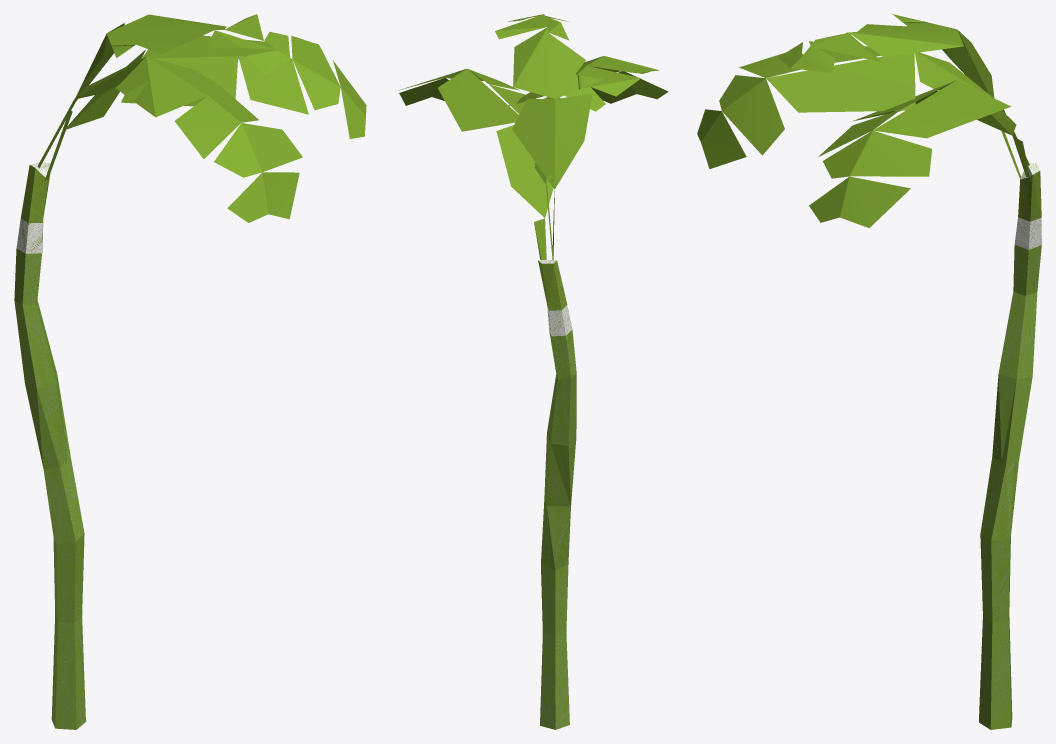
File: Tree_Bamboo_05.fbx
3 renders of one model, left to right at view 1: azimuth 30°, elevation 25°; view 2: azimuth 150°, elevation 25°; view 3: azimuth 270°, elevation 25°, orthographic. The views are drawn at different scales.
Parts seen in each view (by area): view 1: Model; view 2: Model; view 3: Model.
Boxes of the visible parts, x1=… form: Model: x1=14, y1=14, x2=366, y2=729; Model: x1=399, y1=14, x2=668, y2=729; Model: x1=697, y1=14, x2=1041, y2=729.
Bounding box in the file's own units: 223 × 571 × 244.
